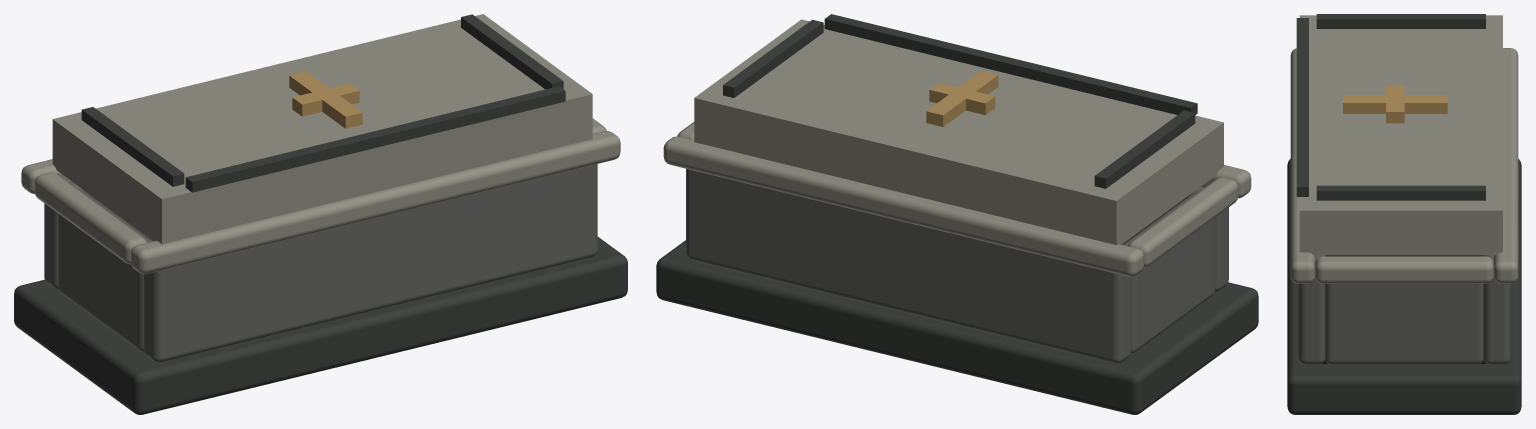
The model's file is sk_sarcophagus.glb.
3 views of the same model, side by side, from view 1: azimuth 30°, elevation 25°; view 2: azimuth 150°, elevation 25°; view 3: azimuth 270°, elevation 25° (orthographic). The views are drawn at different scales.
Parts seen in each view (by area): view 1: stone (×2), metal; view 2: stone (×2), metal; view 3: stone (×2), metal, object 2.
Boxes of the visible parts, <box> form: stone (×2): <box>14,14,627,414</box>; metal: <box>289,71,362,128</box>; stone (×2): <box>656,14,1258,414</box>; metal: <box>926,71,998,126</box>; stone (×2): <box>1287,14,1521,414</box>; metal: <box>1343,86,1447,123</box>; object 2: <box>1322,255,1486,363</box>.
Size of the model in its own units: 1.72 by 0.74 by 0.76.
